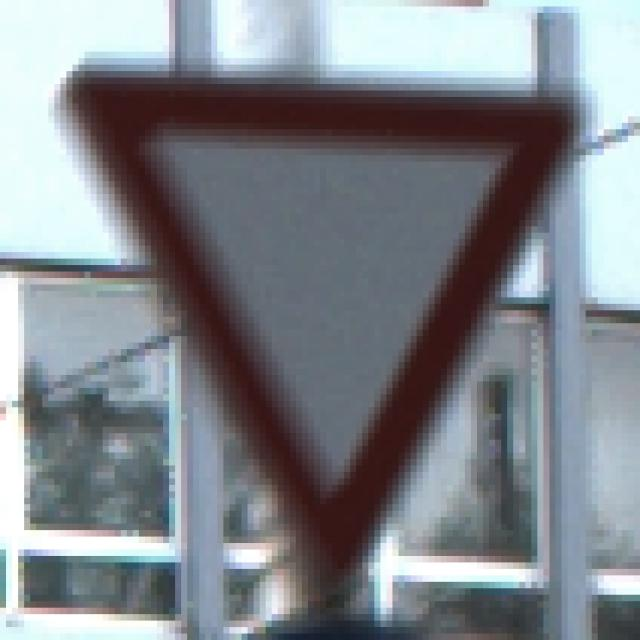Give Way: (61, 59, 587, 589)
